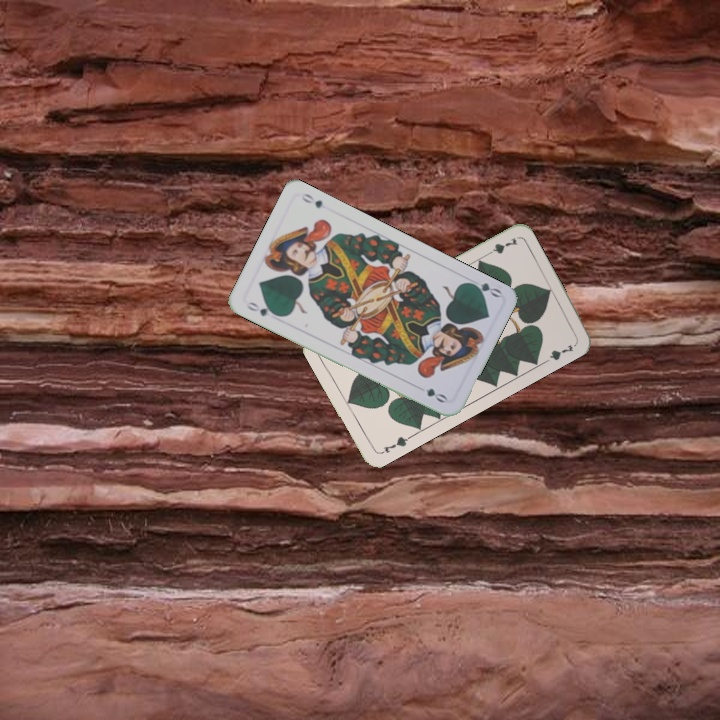G7: (481, 234, 520, 259), (376, 432, 413, 457)
GO: (464, 274, 504, 300), (242, 298, 281, 319)
